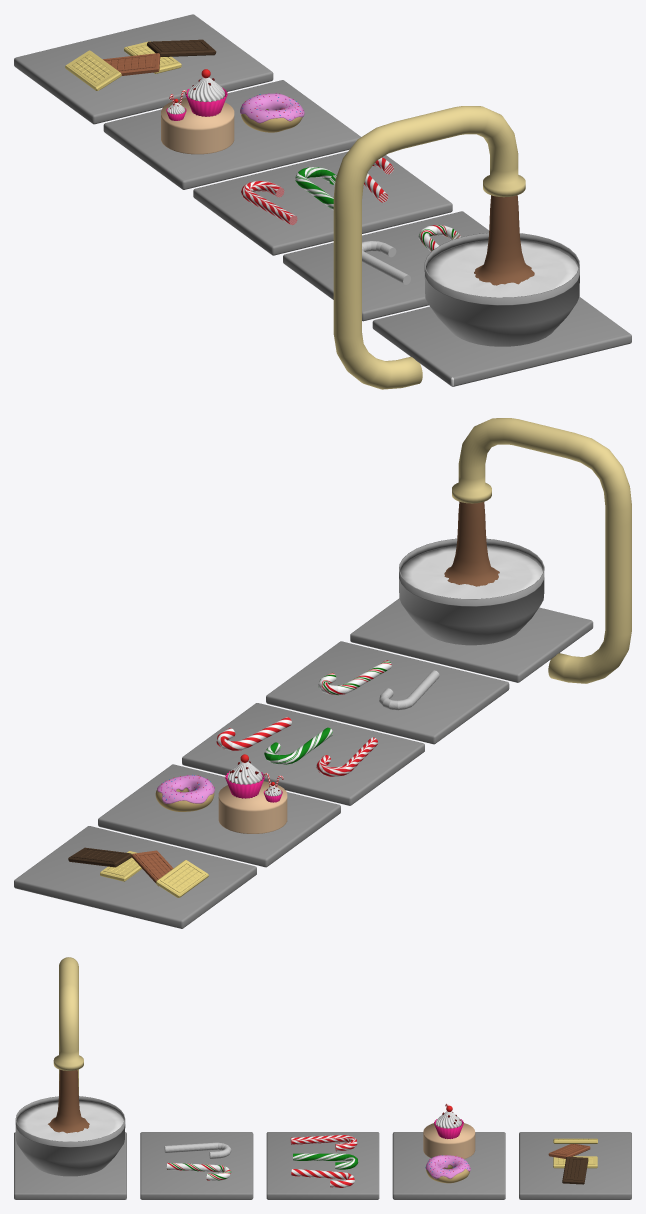
Rendered from CandyEnvironment.fbx.
3 renders of one model, top to bottom at view 1: azimuth 30°, elevation 25°; view 2: azimuth 150°, elevation 25°; view 3: azimuth 270°, elevation 25°, orthographic. The views are drawn at different scales.
Visible parts, largest first — view 1: Sauce, DonutCupcake, Chocolate, CandyCane, CandyCane2; view 2: Sauce, DonutCupcake, CandyCane2, Chocolate, CandyCane; view 3: Sauce, DonutCupcake, CandyCane, CandyCane2, Chocolate.
Boxes of the visible parts, left/top/right/bottom form: Sauce: left=333, top=106, right=631, bottom=389; DonutCupcake: left=103, top=69, right=360, bottom=189; Chocolate: left=14, top=14, right=273, bottom=124; CandyCane: left=193, top=151, right=452, bottom=255; CandyCane2: left=283, top=211, right=488, bottom=321; Sauce: left=350, top=418, right=631, bottom=683; DonutCupcake: left=98, top=754, right=340, bottom=867; CandyCane2: left=266, top=641, right=509, bottom=744; Chocolate: left=14, top=826, right=256, bottom=928; CandyCane: left=182, top=703, right=424, bottom=805; Sauce: left=14, top=957, right=126, bottom=1199; DonutCupcake: left=392, top=1103, right=505, bottom=1199; CandyCane: left=266, top=1132, right=379, bottom=1199; CandyCane2: left=140, top=1132, right=253, bottom=1199; Chocolate: left=519, top=1132, right=631, bottom=1199.
Size of the model in its own units: 28.29 by 83.2 by 27.69.
